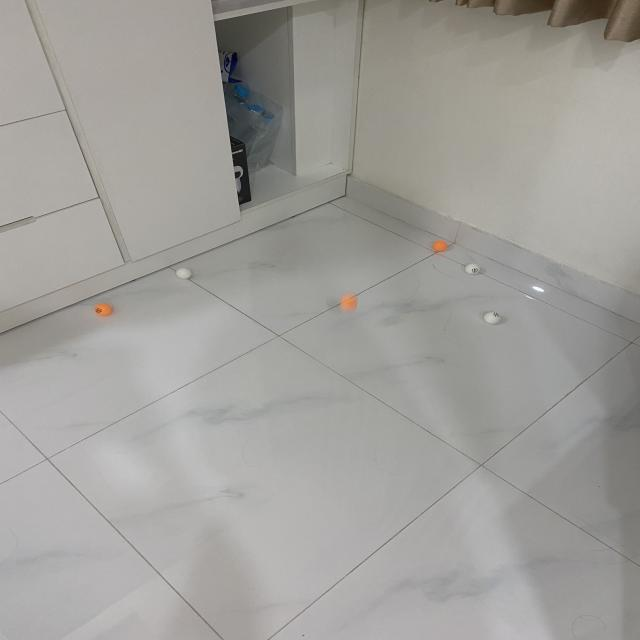ping-pong-ball: (482, 310, 503, 326), (95, 302, 114, 318), (174, 266, 193, 280), (340, 296, 359, 310), (431, 239, 448, 253), (466, 263, 482, 277)
